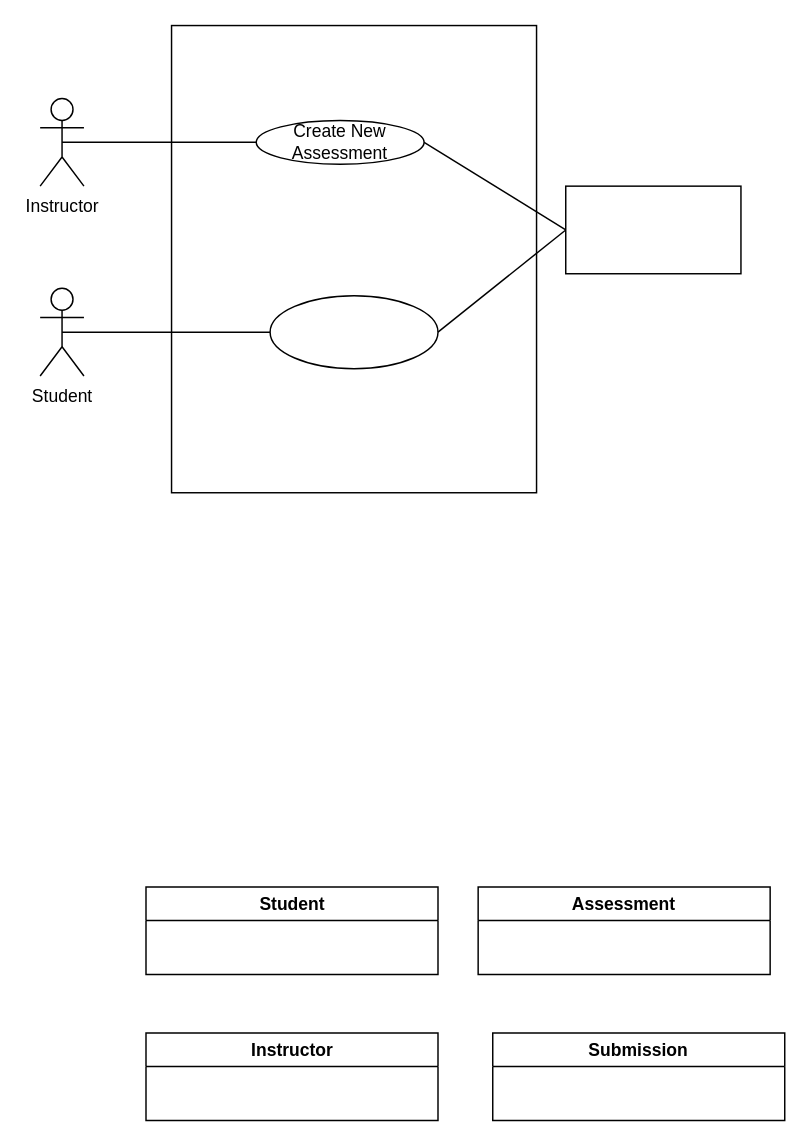
The diagram is 810 pixels wide and 1146 high, and some of its shapes have lost their labels. The box of each missing label's shape, as (x1, y1, x2, y2) in pixels:
LMS: (564, 185, 741, 274)
Upload Assignment Submission: (269, 294, 438, 369)
